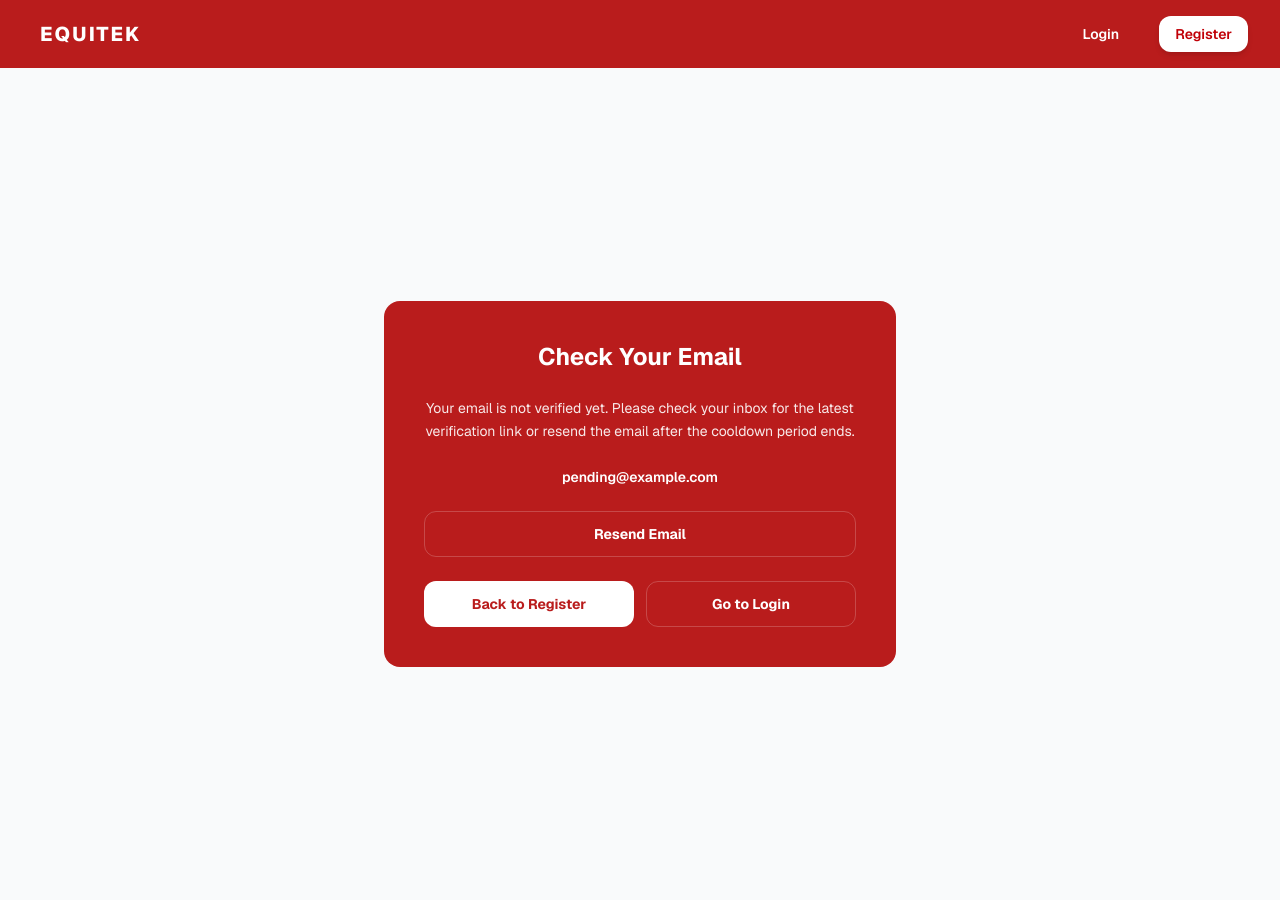
Test: Verify Email Pending Page › shows resend error message when request fails
Click the button "Resend Email" at (640, 534), box x1=424 y1=511 x2=856 y2=557
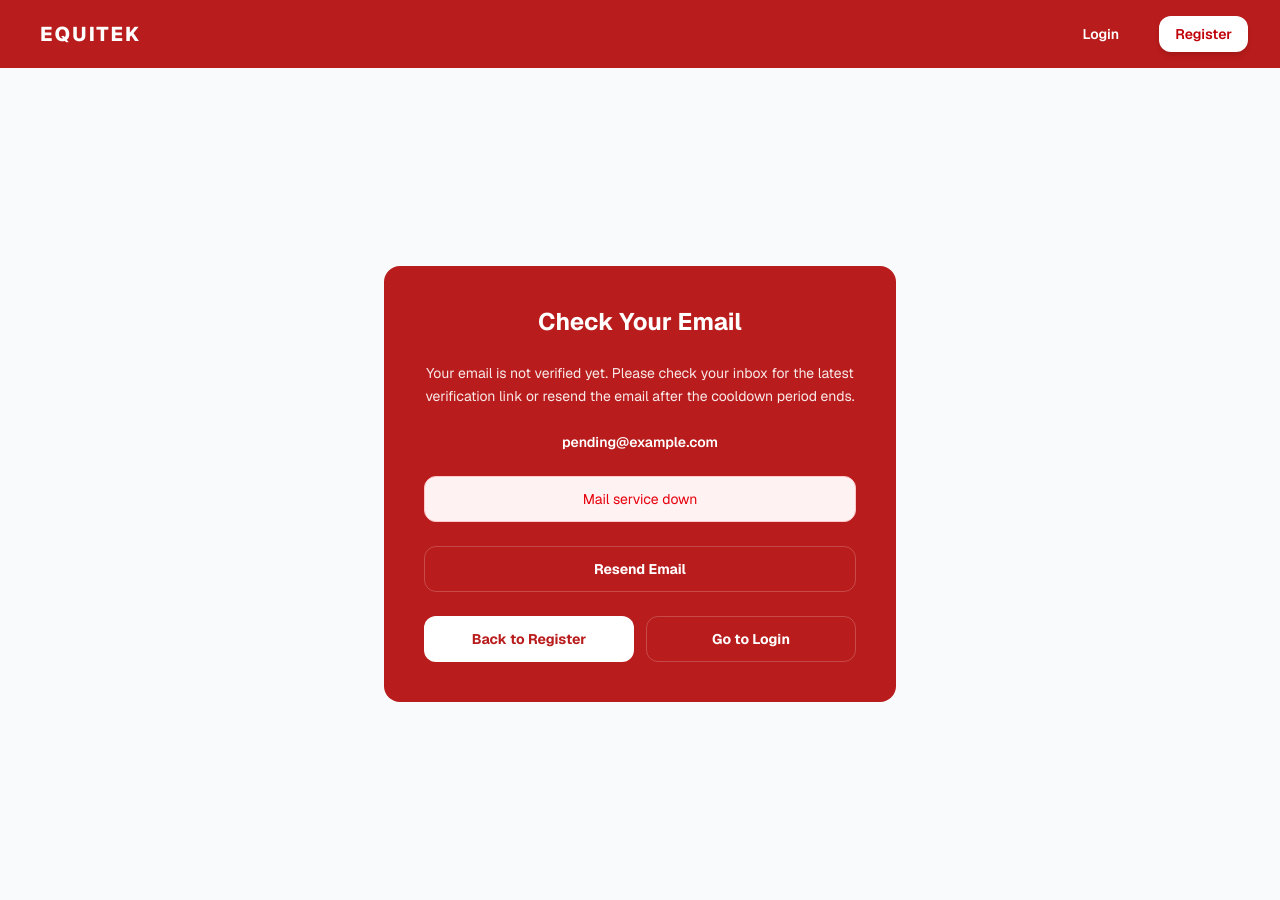
Now the text "Mail service down" is shown, box x1=424 y1=476 x2=856 y2=522
